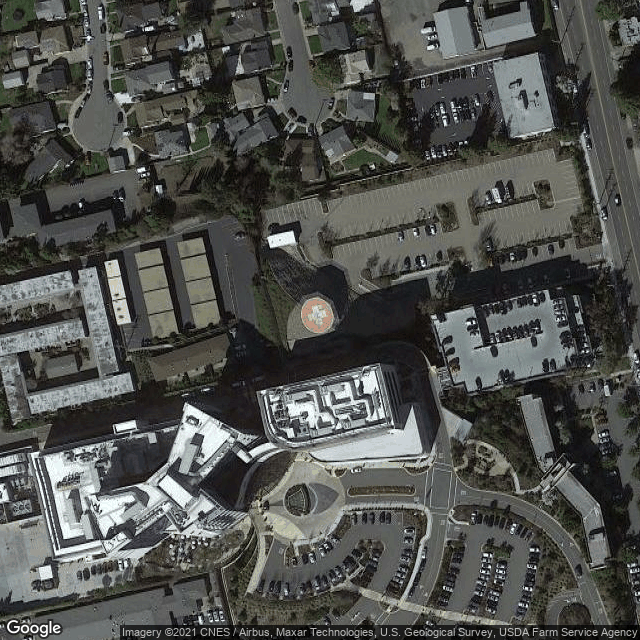Helipad: (299, 295, 337, 337)
